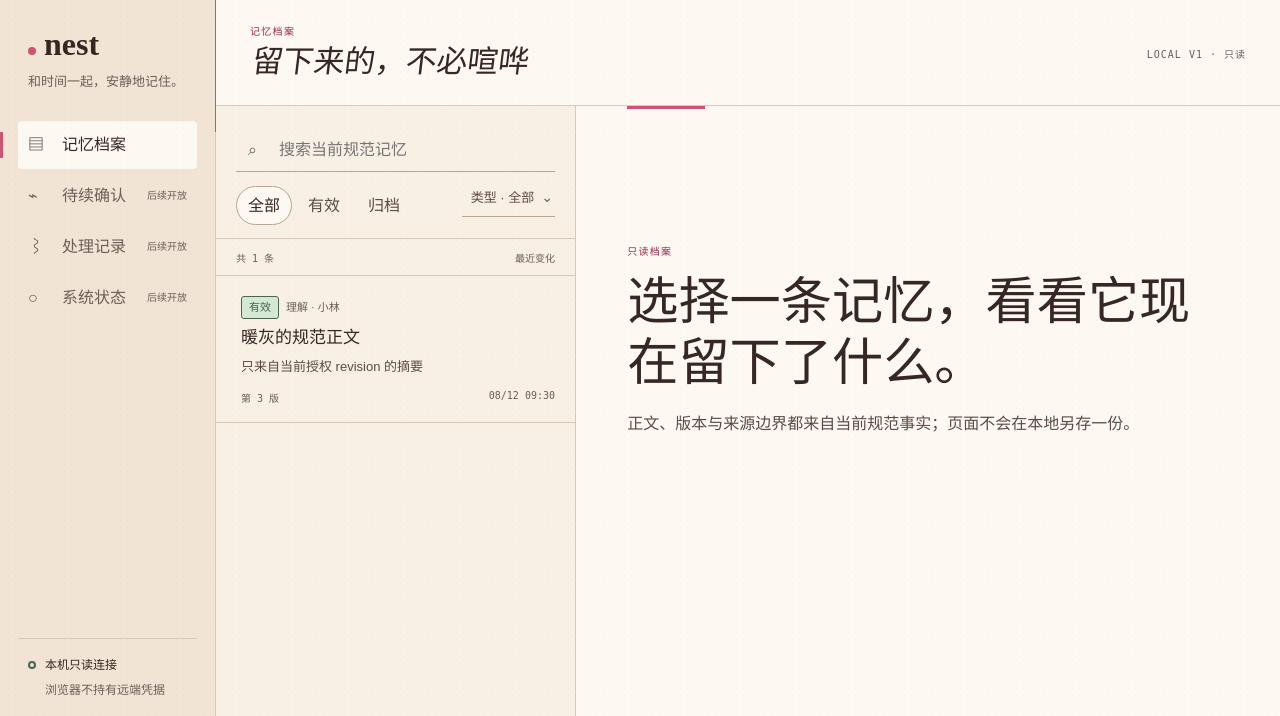
Test: 记忆档案生产纵切 › 证据时间范围动态派生：同分钟单时间、跨分钟紧凑范围
Click the button "有效 理解 · 小林 暖灰的规范正文 只来自当前授权 revision 的摘要 第 3 版 08/12 09:30": click(260, 308) [216,276,575,423]
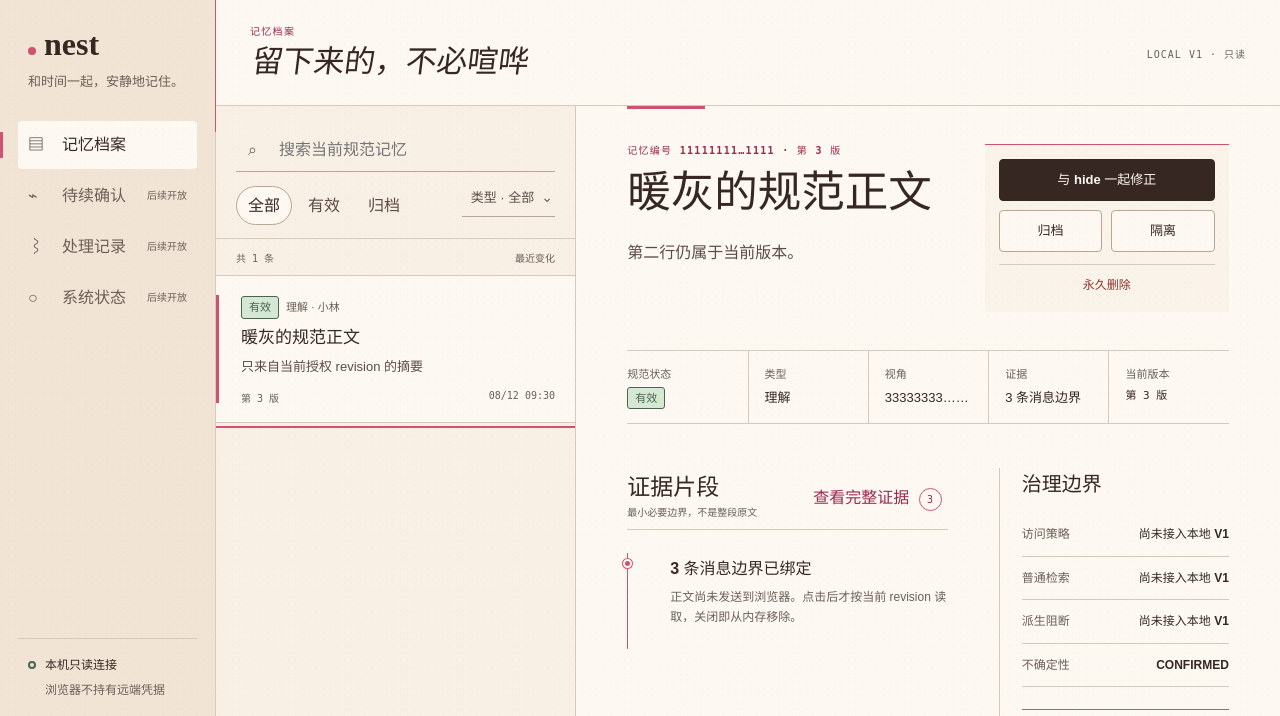
Click the button "查看完整证据 3": click(877, 497) [807,475,948,519]
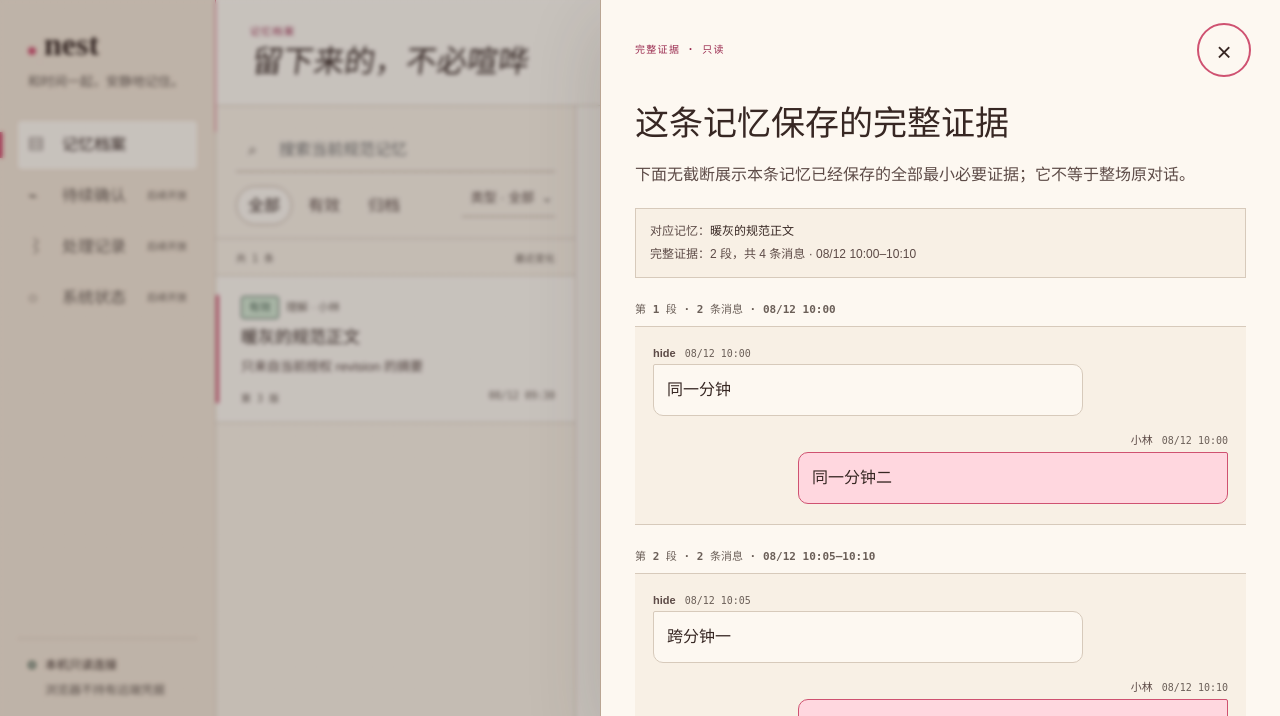
Expected: the text "第 1 段 · 2 条消息" does not show "–"
Expected: the heading "第 2 段 · 2 条消息 · 08/12 10:05–10:10" is shown, [635,550,876,563]
